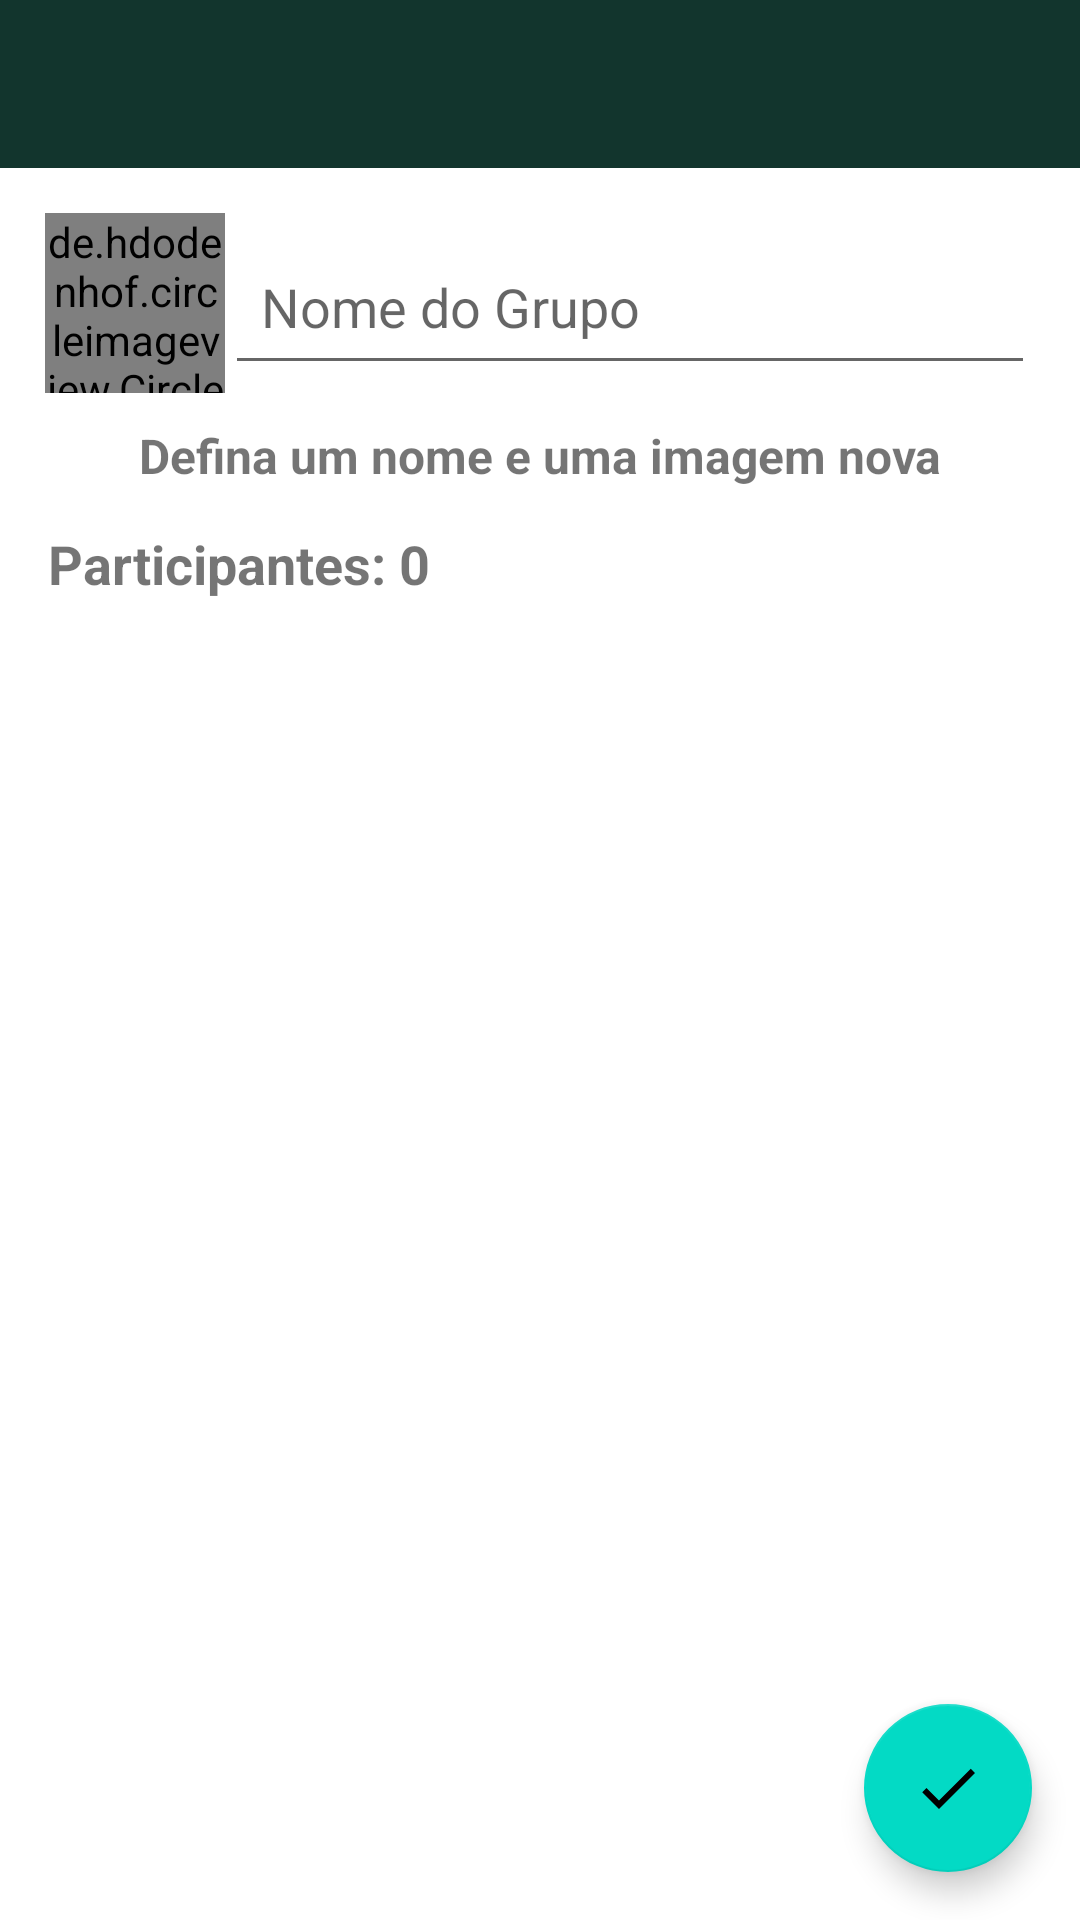

Icon bounding boxes for this 1080px×1920px phone screenshot, format (x1, y1, x2, y2):
check: (864, 1704, 1032, 1872)
